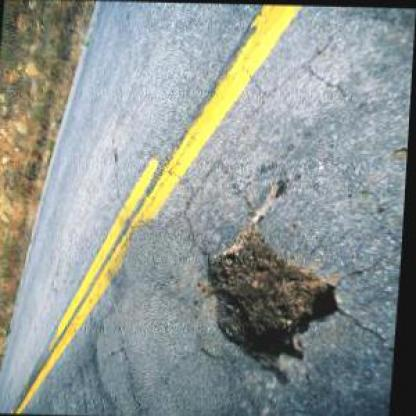pothole: (197, 218, 354, 386)
